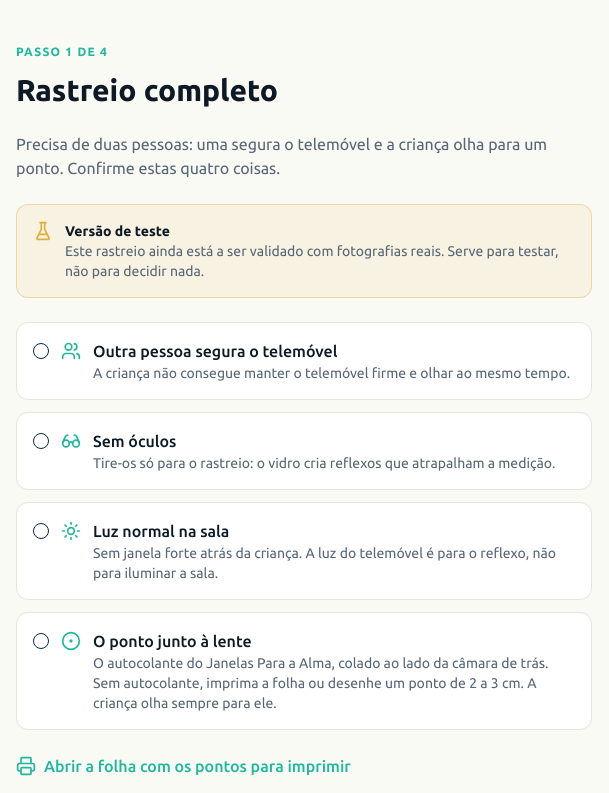
Test: RastreioCompleto — preparação › só avança com as quatro confirmações, e diz o que falta
Click the text "Outra pessoa segura o telemóvel": (215, 351) [93,342,338,360]
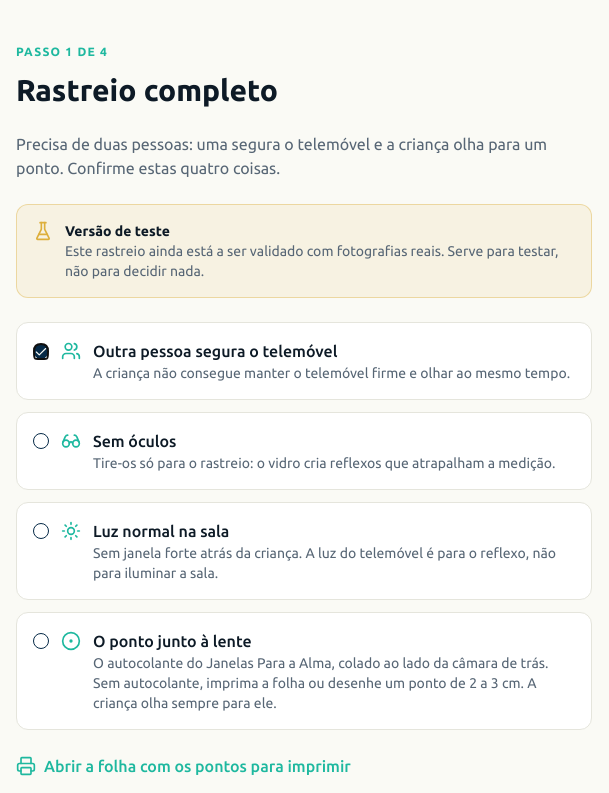
Click the text "Sem óculos": (135, 441) [93,432,176,450]
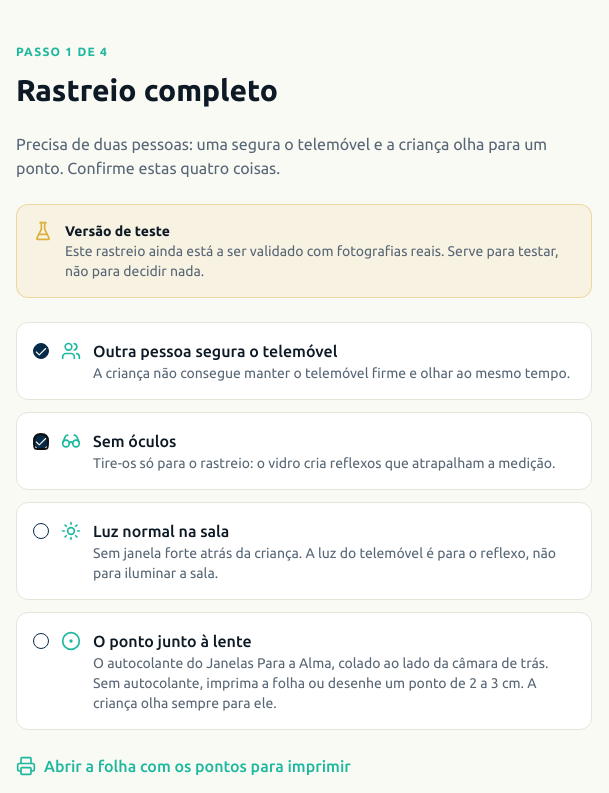
Click the text "Luz normal na sala": (161, 531) [93,522,229,540]
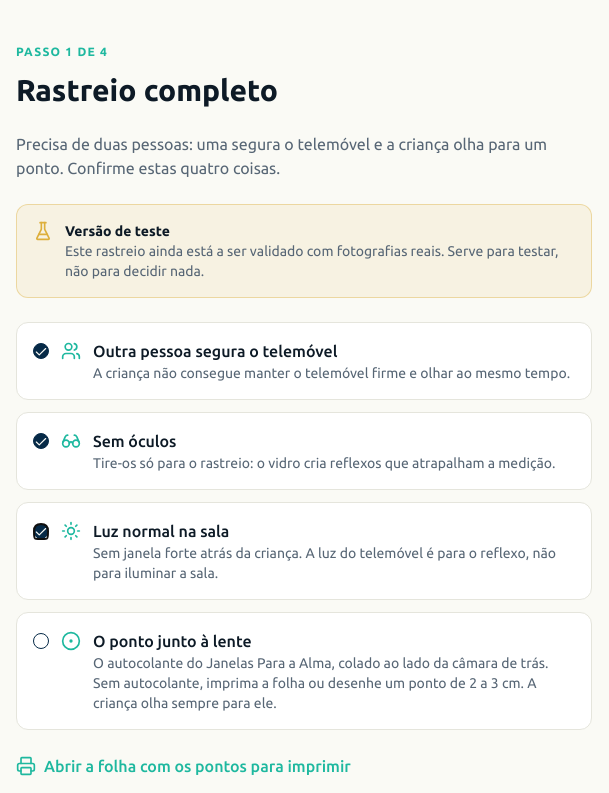
Click the text "O ponto junto à lente": (172, 641) [93,632,252,650]
(page scrolled)
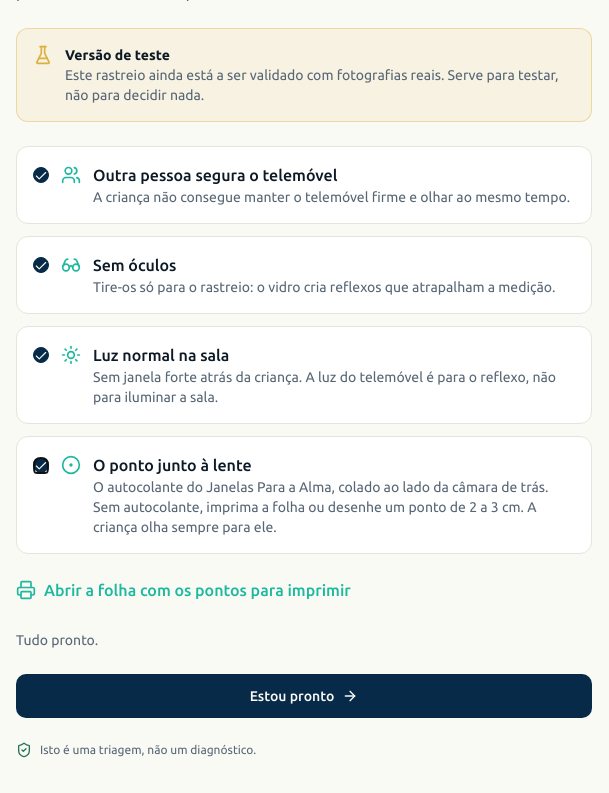
Now the button "Estou pronto" is enabled, box [16,674,592,718]
